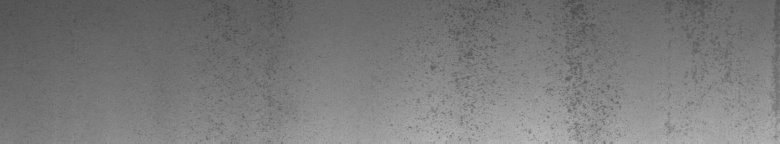ib: (424, 4, 621, 136)
